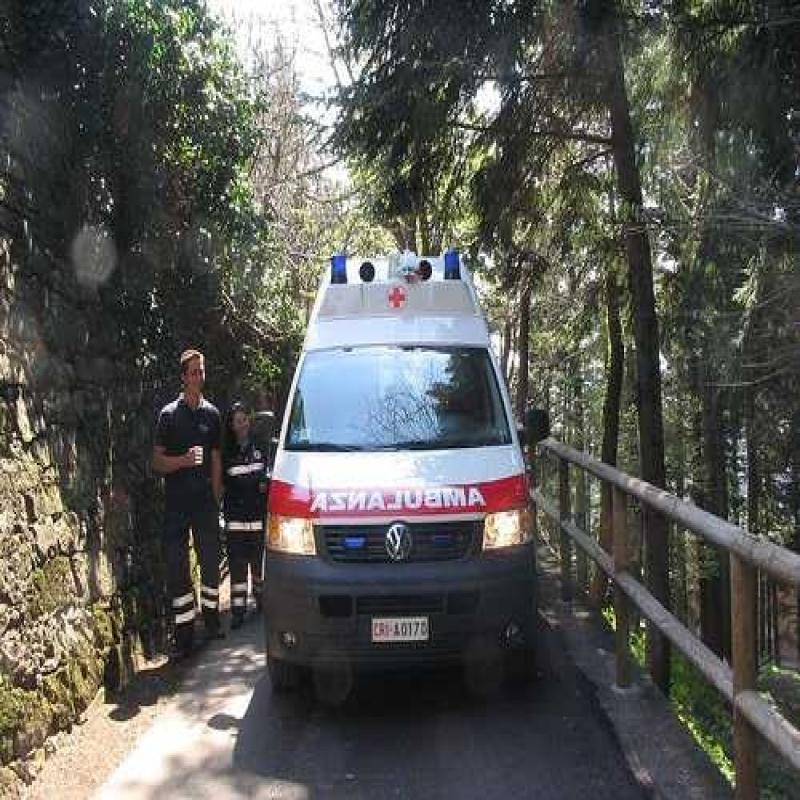AmbulanceSiren: (322, 246, 483, 311)
